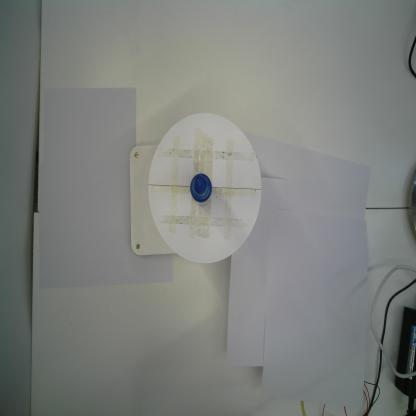Personal Hygiene: (188, 170, 214, 209)
